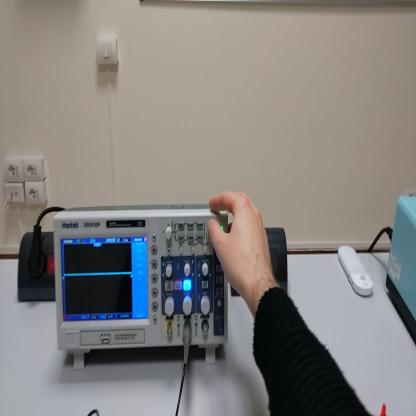hand: (207, 190, 275, 300)
oscilloscope: (56, 201, 230, 368)
socket: (14, 231, 55, 304)
welder station: (390, 198, 415, 340)
